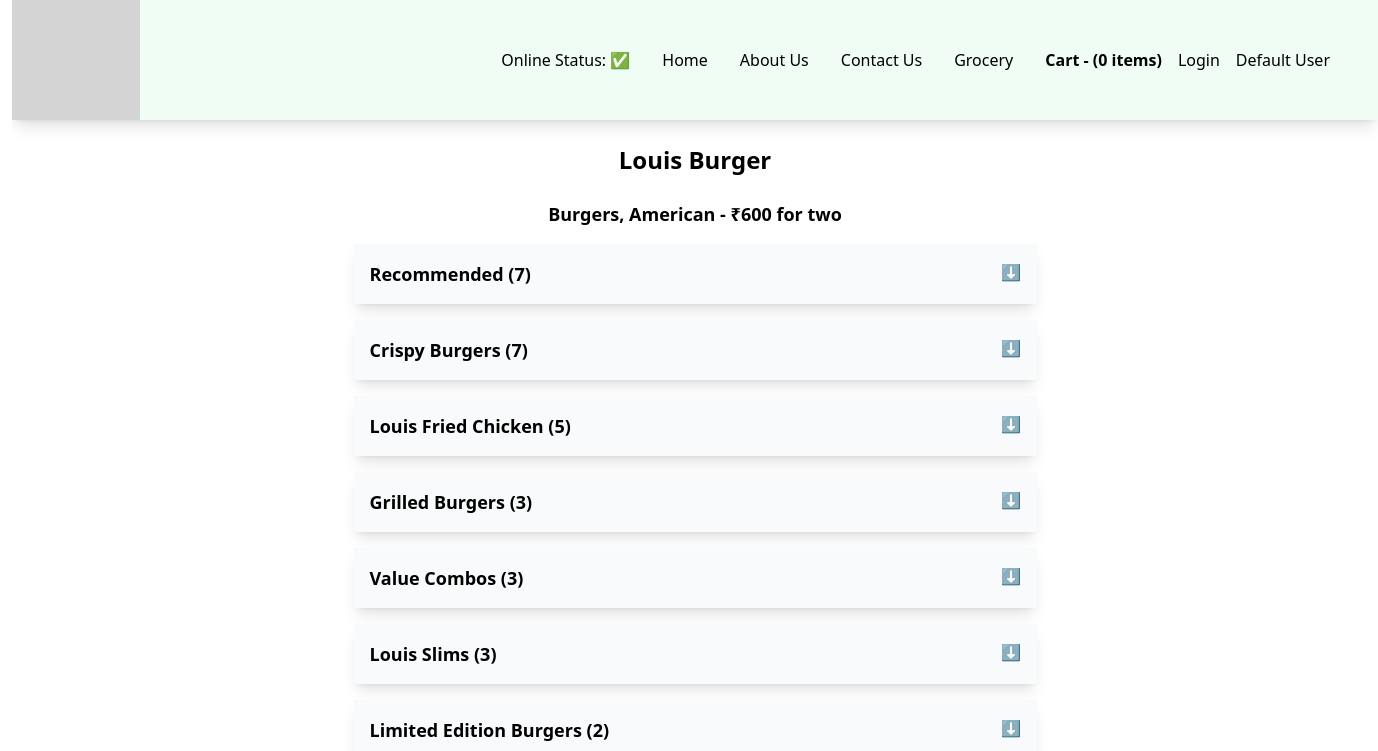
Test: Should load restaurant menu component
Click the text "Crispy Burgers (7)".
click(449, 350)  # box [370,336,528,364]
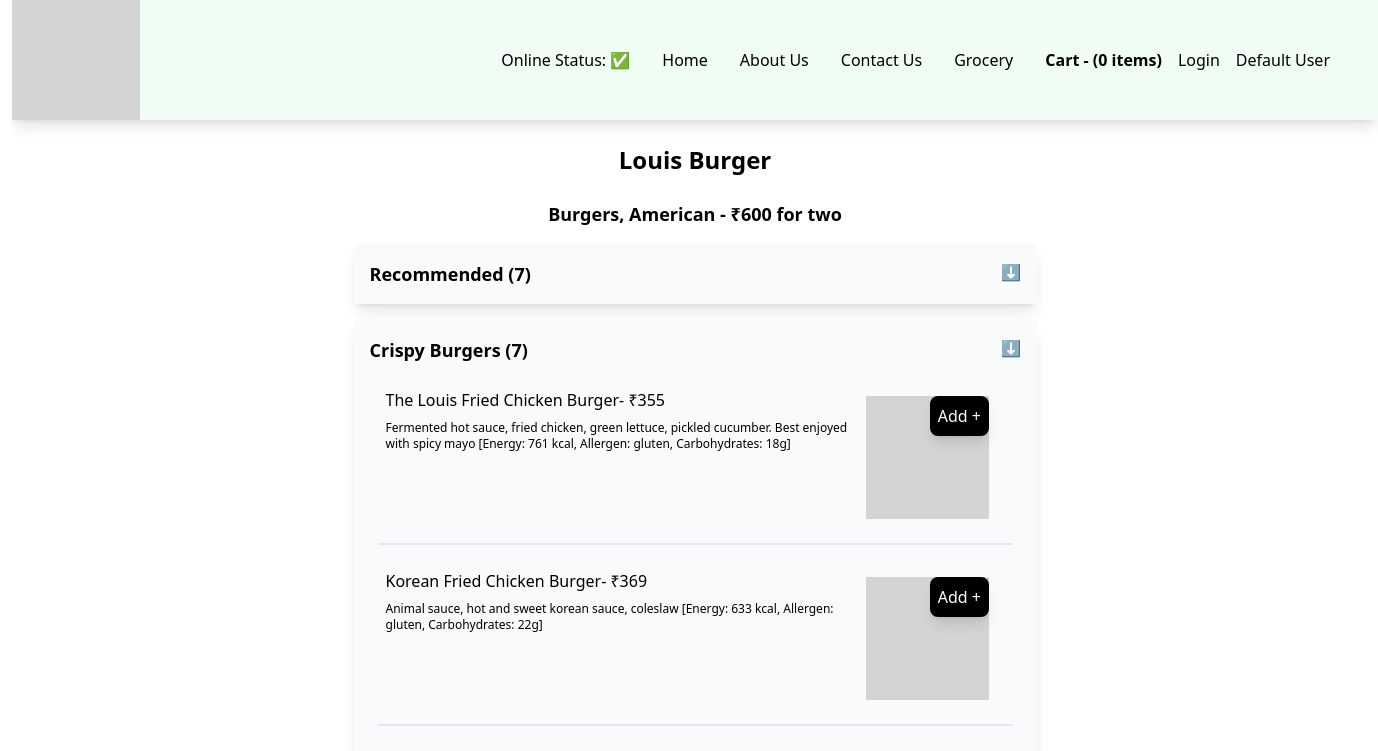
Check: the number of elements with test id "foodItems" is 7
Click the button "Add +" in the row of "The Louis Fried Chicken Burger".
click(959, 416)  # box [930,396,989,436]
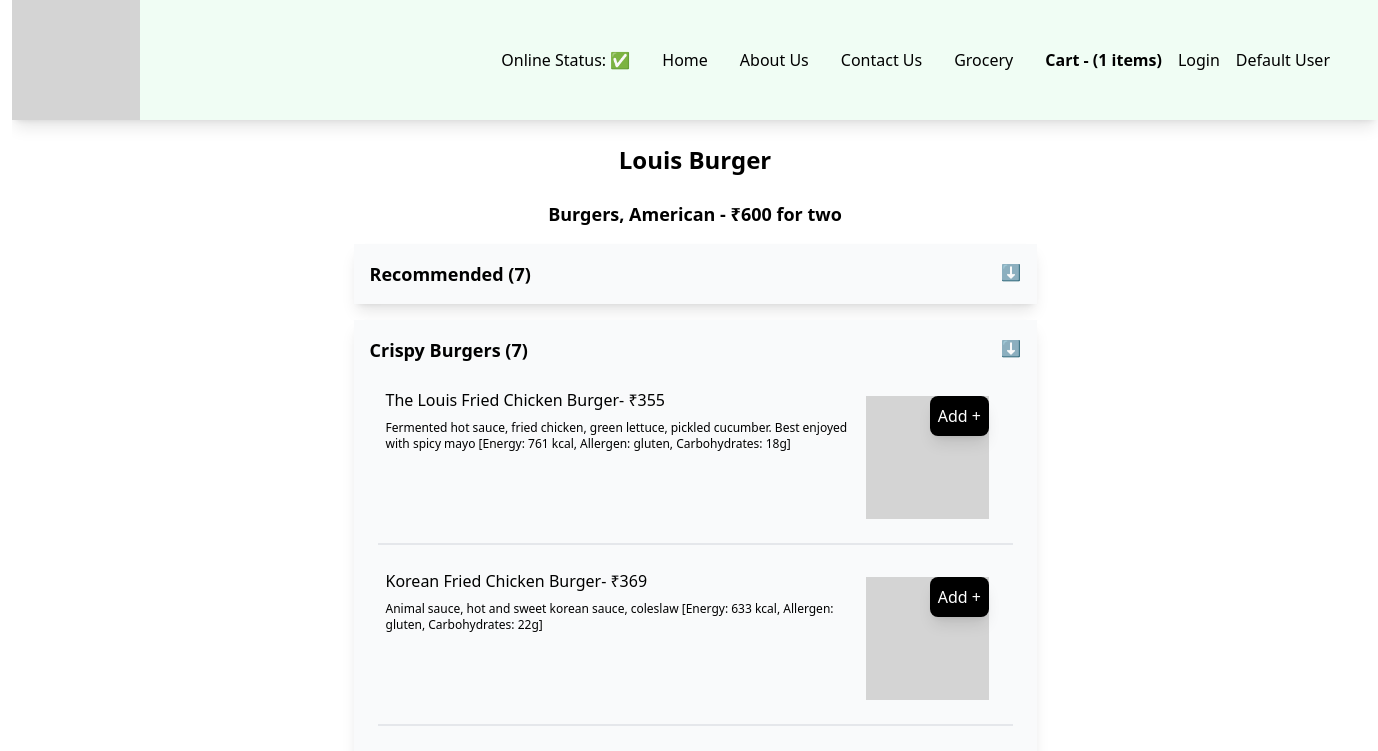
Check: the link "Cart - (1 items)" is shown, box [1045,49,1162,71]
Click the button "Add +" in the row of "Korean Fried Chicken Burger".
click(959, 597)  # box [930,577,989,617]
(page scrolled)
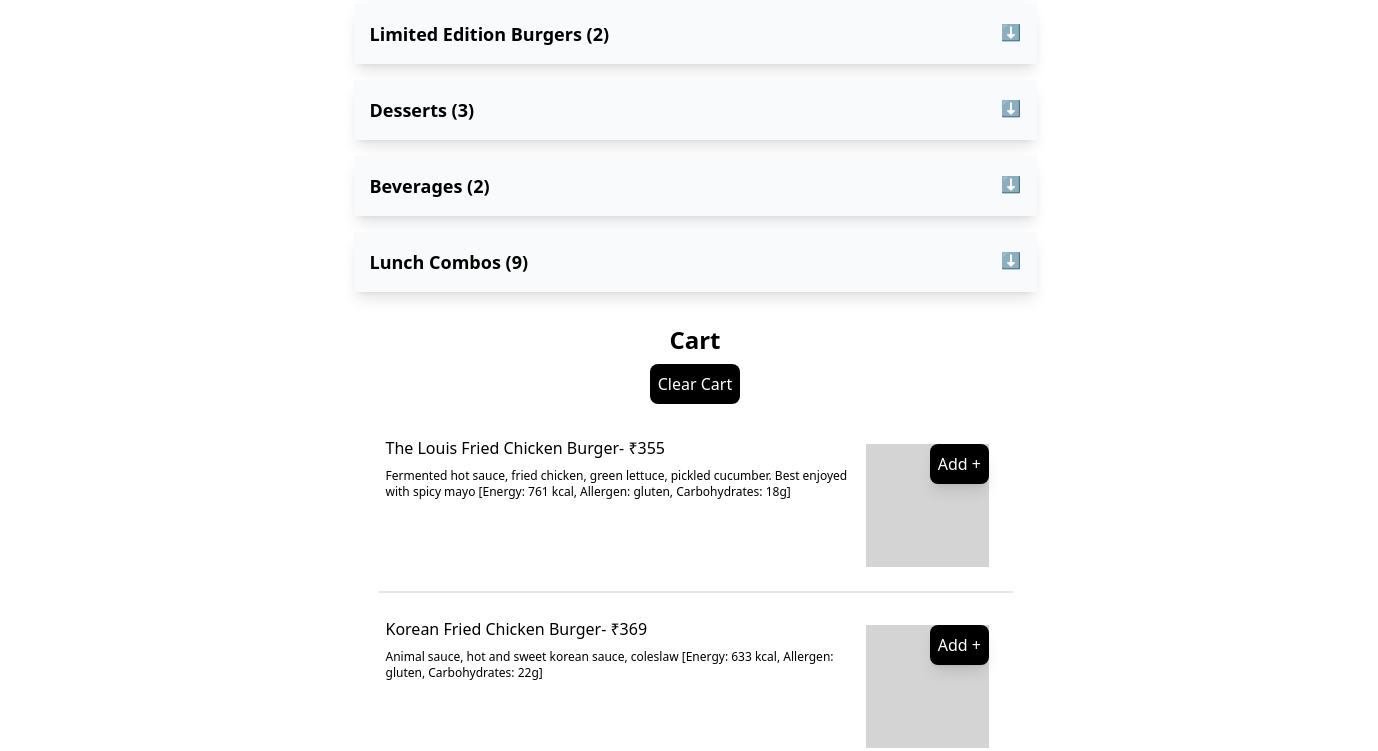
Click the button "Clear Cart".
click(695, 384)  # box [650,364,740,404]
(page scrolled)
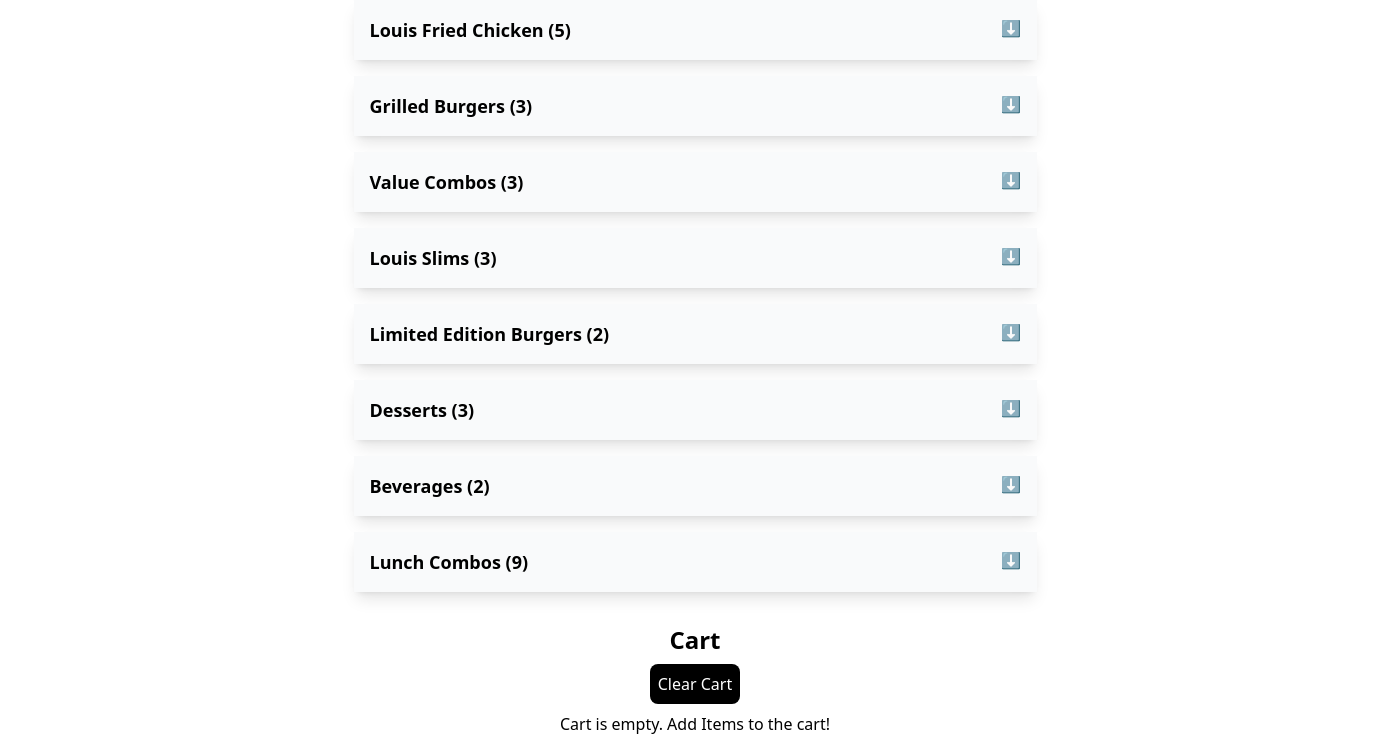
Check: the heading "Cart is empty. Add Items to the cart!" is shown, box [560,713,830,735]
